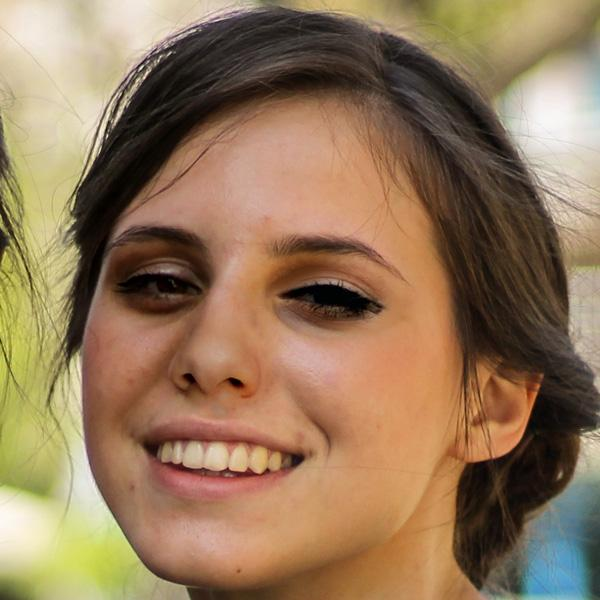Eyes: (264, 261, 391, 336), (105, 246, 213, 325)
